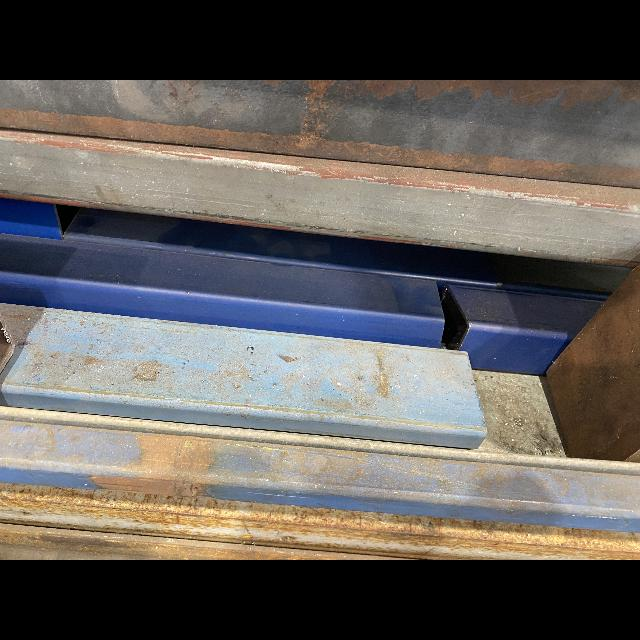Ferrous Metal: (1, 419, 640, 533), (0, 303, 487, 448), (0, 80, 640, 185), (0, 232, 445, 347), (0, 483, 640, 560), (546, 265, 640, 463), (439, 285, 606, 375), (0, 198, 64, 238)
